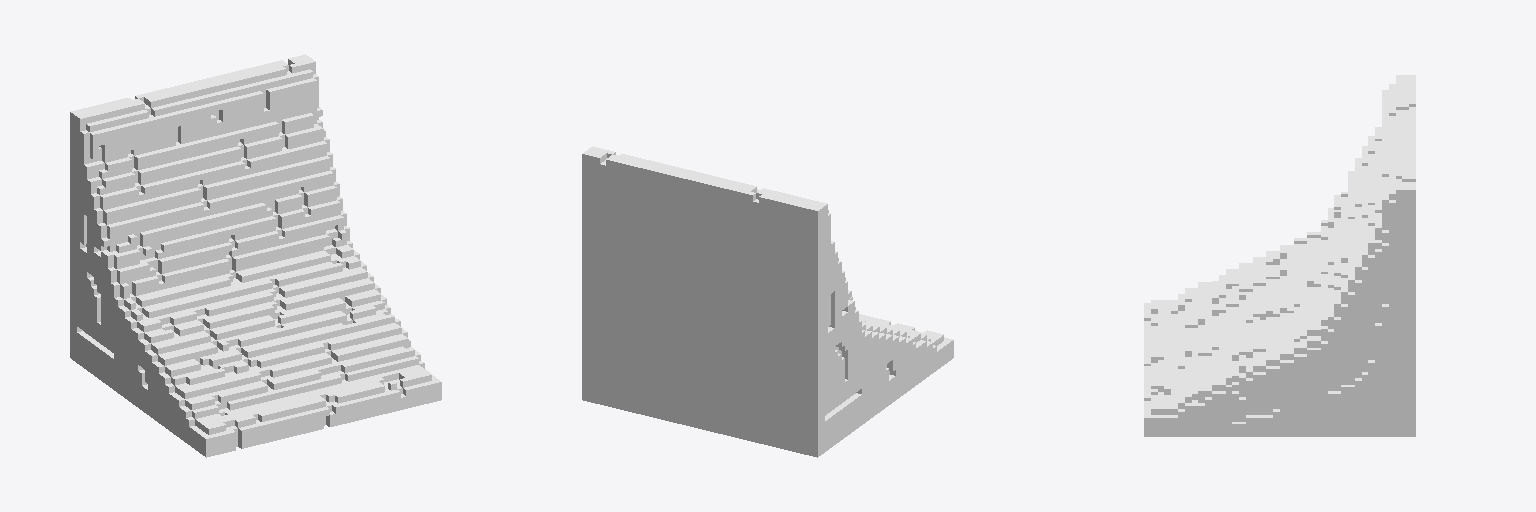
The model's file is trap.obj.
3 views of the same model, side by side, from view 1: azimuth 30°, elevation 25°; view 2: azimuth 150°, elevation 25°; view 3: azimuth 270°, elevation 25° (orthographic).
Visible parts, largest first — view 1: object 1; view 2: object 1; view 3: object 1.
Part boxes in pixels (left/top/right/bottom): object 1: left=70, top=54, right=441, bottom=457; object 1: left=582, top=146, right=953, bottom=457; object 1: left=1144, top=75, right=1415, bottom=436.
Size of the model in its own units: 4 by 4 by 4.